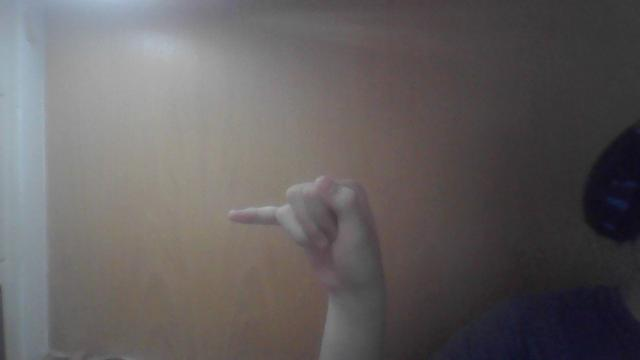Right: (227, 179, 383, 293)
